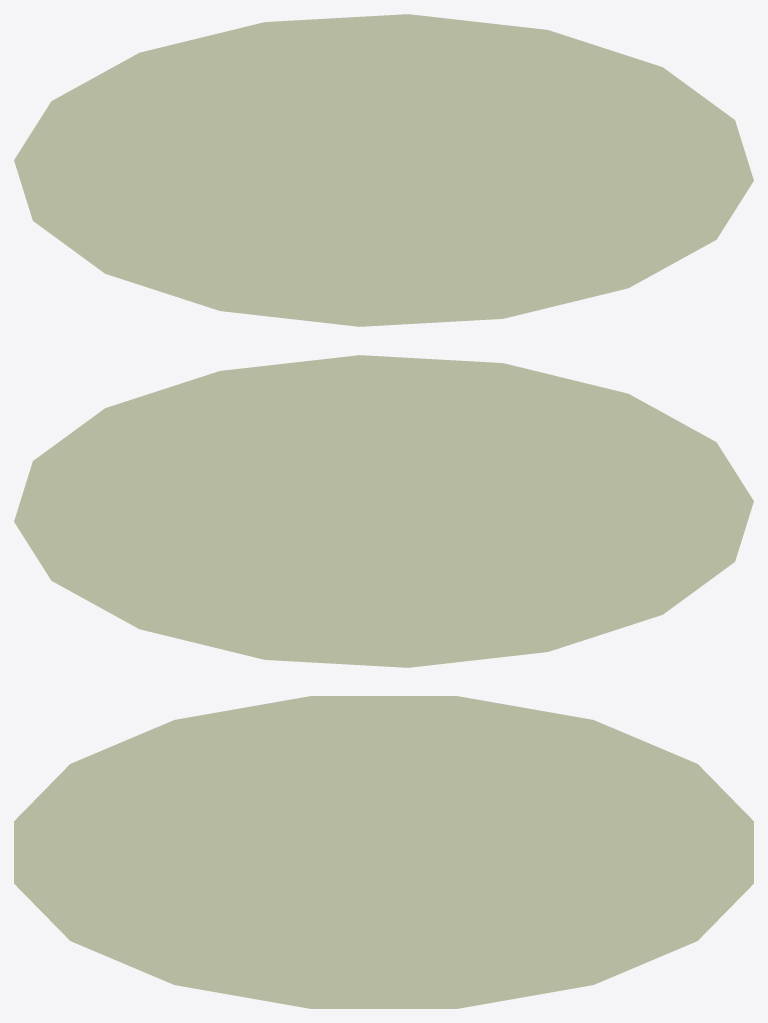
File: alnair_heatshield_s1p5_1_collider.obj
The picture shows the model from 3 angles, top to bottom: view 1: azimuth 30°, elevation 25°; view 2: azimuth 150°, elevation 25°; view 3: azimuth 270°, elevation 25°; orthographic projection.
Parts seen in each view (by area): view 1: collider; view 2: collider; view 3: collider.
Boxes of the visible parts, box(x1,y1,x2,y2) form: collider: box(14, 14, 753, 326); collider: box(14, 355, 753, 667); collider: box(14, 696, 753, 1008).
Bounding box in the file's own units: 1.88 × 0.25 × 1.88.
